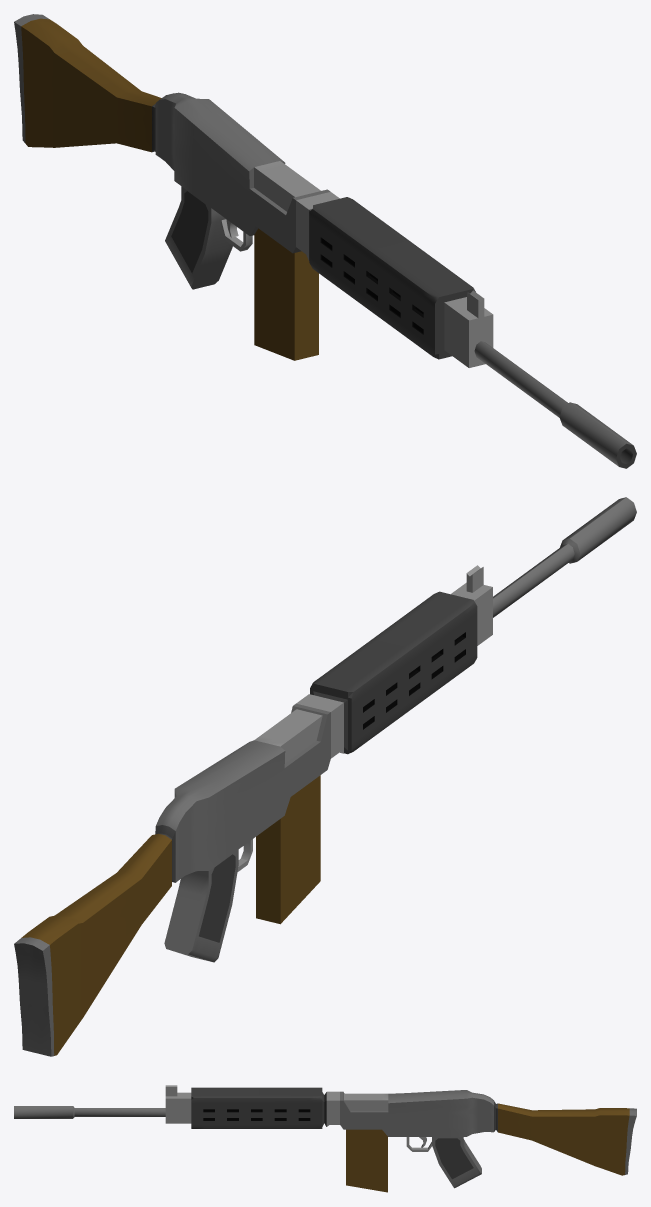
Rendered from 11-Classic-rifle.glb.
3 renders of one model, top to bottom at view 1: azimuth 30°, elevation 25°; view 2: azimuth 150°, elevation 25°; view 3: azimuth 270°, elevation 25°, orthographic. The views are drawn at different scales.
Visible parts, largest first — view 1: Classic rifle; view 2: Classic rifle; view 3: Classic rifle.
Part boxes in pixels (box(x1,y1,x2,y2)): Classic rifle: box(14, 14, 636, 468); Classic rifle: box(14, 497, 636, 1056); Classic rifle: box(14, 1085, 636, 1192).
Size of the model in its own units: 0.0412 by 0.1871 by 1.02.
1 material, 1 textured.
